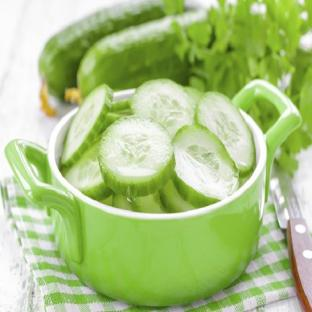Cucumber: (39, 0, 164, 98), (78, 11, 206, 95), (98, 116, 174, 197), (173, 125, 238, 207), (196, 92, 255, 176), (61, 85, 112, 166), (131, 79, 195, 137), (64, 142, 111, 200), (160, 180, 194, 212), (130, 193, 166, 213), (102, 113, 127, 131), (185, 86, 203, 108), (113, 194, 131, 210), (110, 100, 130, 112), (100, 195, 112, 206)
